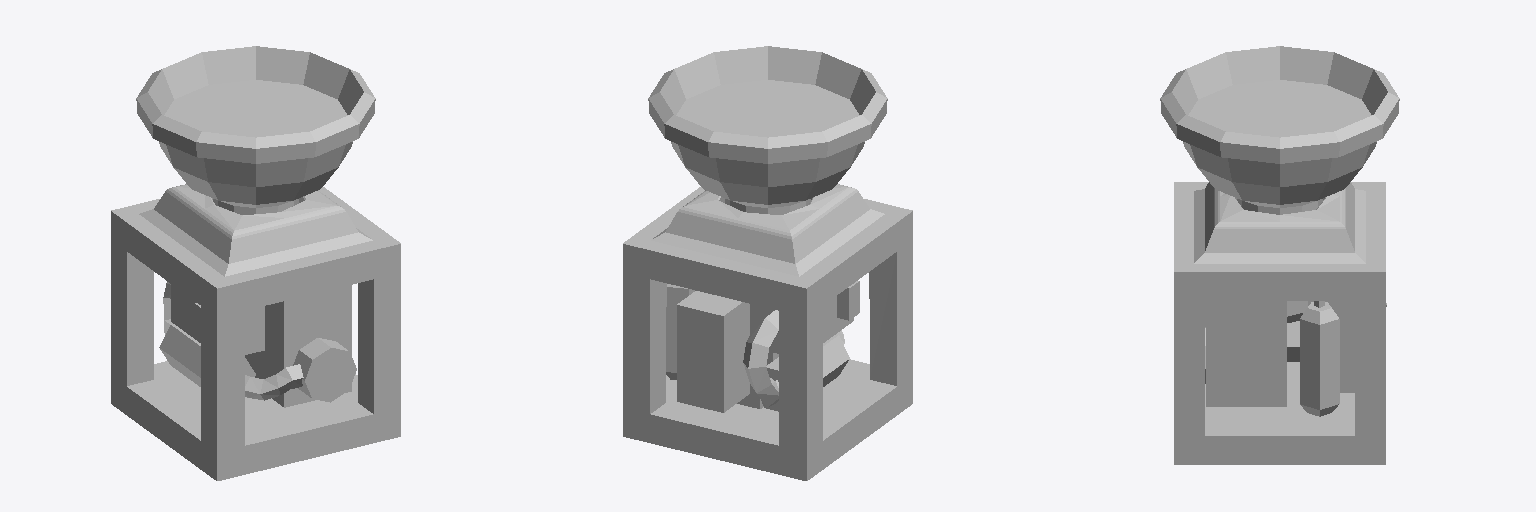
File: fant_anchor_1.obj
The picture shows the model from 3 angles: view 1: azimuth 30°, elevation 25°; view 2: azimuth 150°, elevation 25°; view 3: azimuth 270°, elevation 25°; orthographic projection.
Parts seen in each view (by area): view 1: obj_logicgate_off_Mesh.001; view 2: obj_logicgate_off_Mesh.001; view 3: obj_logicgate_off_Mesh.001.
Boxes of the visible parts, <box> form: obj_logicgate_off_Mesh.001: <box>111,46,400,480</box>; obj_logicgate_off_Mesh.001: <box>623,46,912,480</box>; obj_logicgate_off_Mesh.001: <box>1160,46,1399,464</box>.
Bounding box in the file's own units: 1.12 × 1.7 × 1.12.